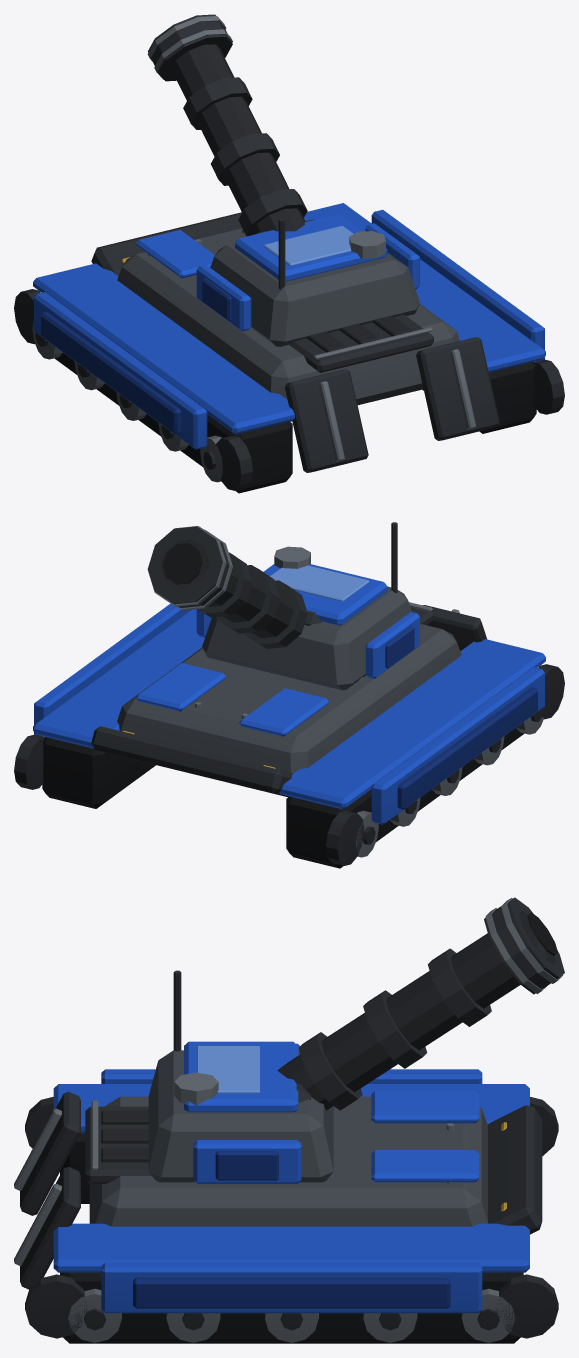
File: juggernaut.glb
3 renders of one model, top to bottom at view 1: azimuth 30°, elevation 25°; view 2: azimuth 150°, elevation 25°; view 3: azimuth 270°, elevation 25°, orthographic. The views are drawn at different scales.
Visible parts, largest first — view 1: hull, turret; view 2: hull, turret; view 3: hull, turret.
Boxes of the visible parts, x1,y1,x2,y2 form: hull: (14, 203, 564, 493); turret: (147, 14, 420, 346); hull: (14, 602, 564, 868); turret: (147, 522, 419, 690); hull: (14, 1069, 558, 1343); turret: (148, 897, 564, 1183).
Bounding box in the file's own units: 1.55 × 1.24 × 1.74.
